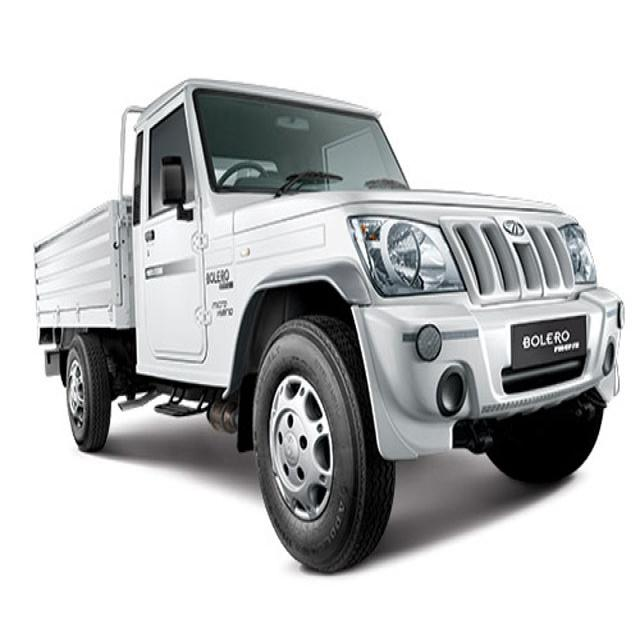truck: (35, 80, 625, 571)
